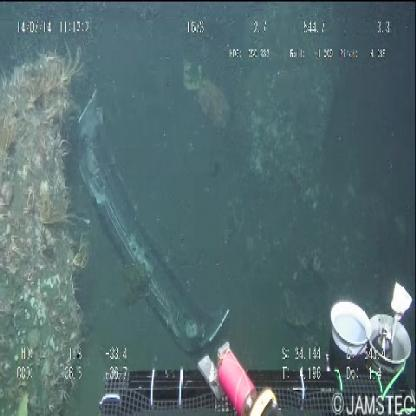Rov: (86, 274, 416, 411)
Rác: (72, 77, 230, 347)
